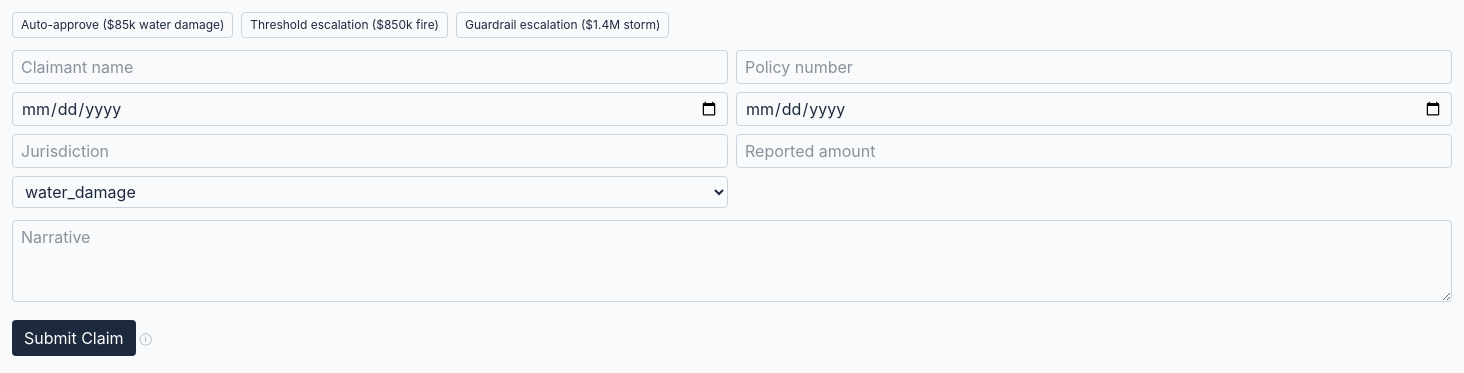
it: ClaimForm › prefills from a demo claim
Click the button "Auto-approve ($85k water damage)": click(123, 25) [12,12,233,38]
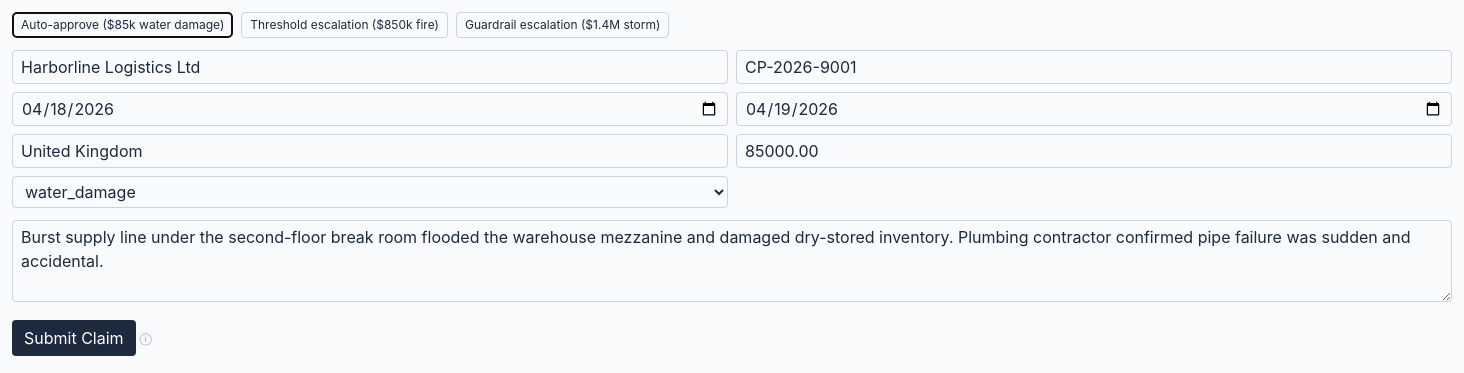
Expected: the field named "Claimant name" holds "Harborline Logistics Ltd", [12,50,728,84]
